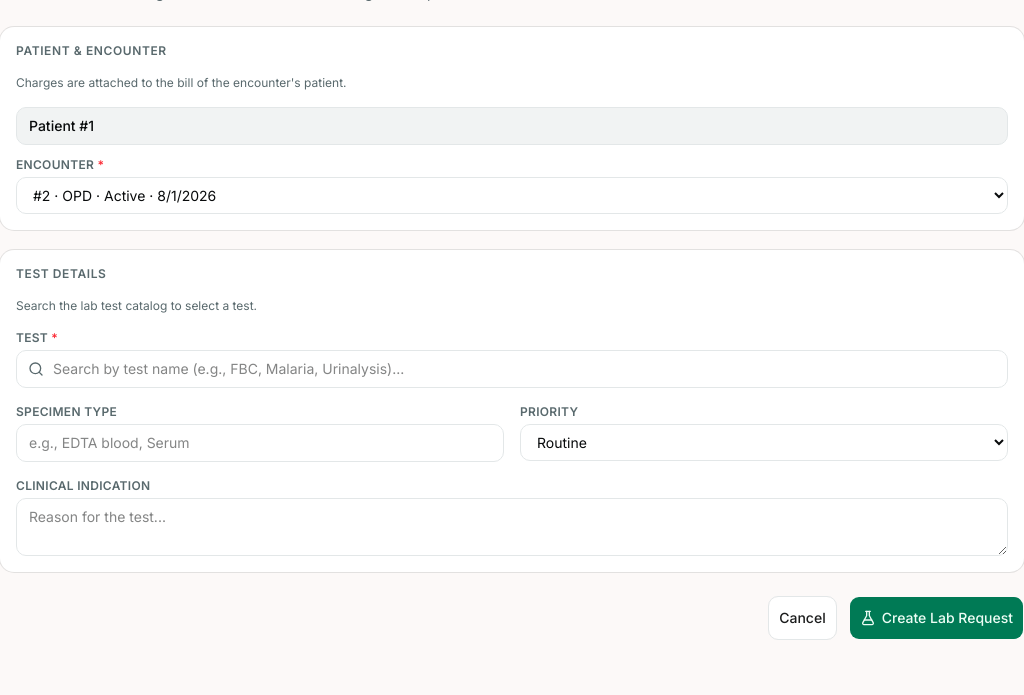
Scenario: NewLabRequestPage › submits a lab request and shows the billing confirmation modal
The image size is (1024, 695).
Select "#2 · OPD · Active · 8/1/2026" in the dropdown below "Patient #" at (512, 196), box [16, 177, 1008, 214]
Type "hemo" into the field with placeholder "Search by test name (e.g., FBC, Malaria, Urinalysis)...".
click(512, 369); type("hemo")  # box [16, 350, 1008, 388]
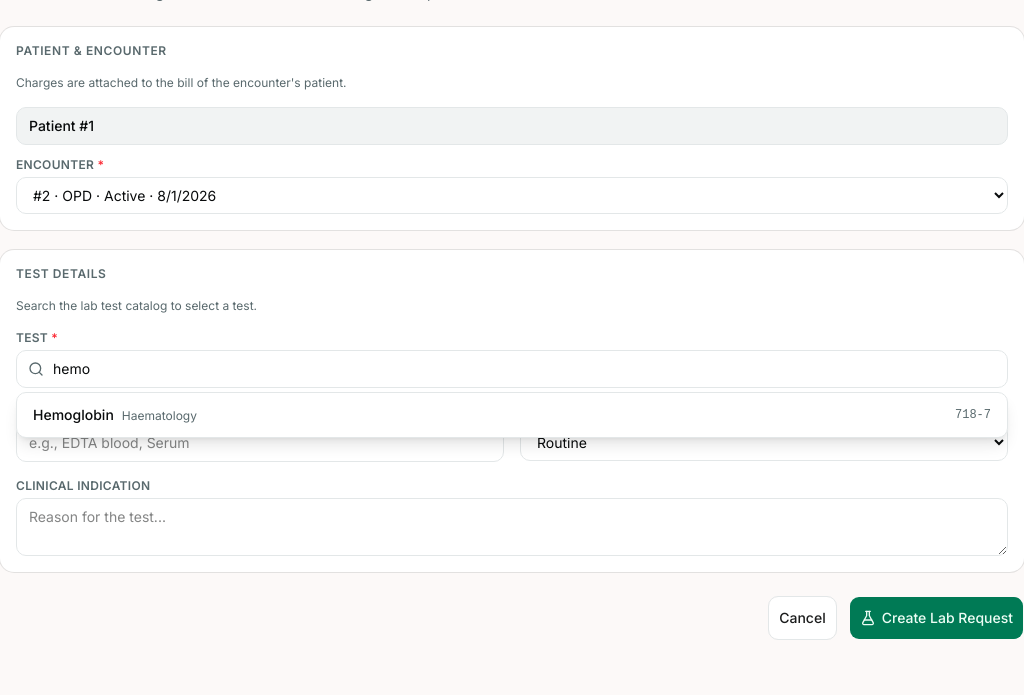
Click the button "Hemoglobin".
click(73, 414)  # box [17, 393, 1007, 437]
(page scrolled)
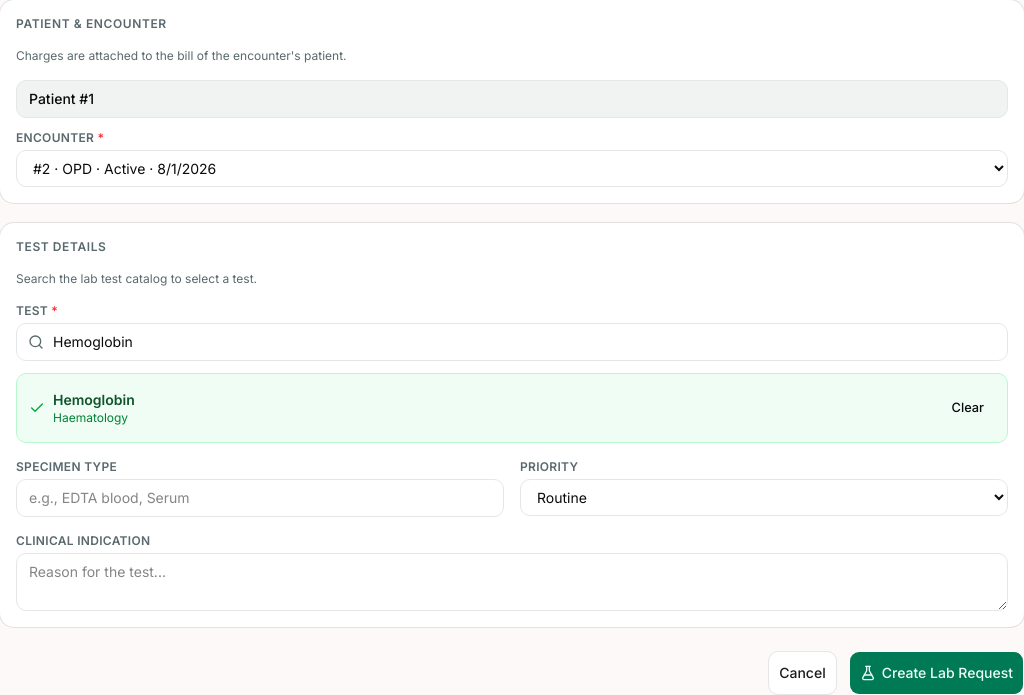
Now the text "Haematology" is shown, box [53, 410, 135, 426]
Click the button "Create Lab Request".
click(936, 673)  # box [849, 651, 1023, 694]
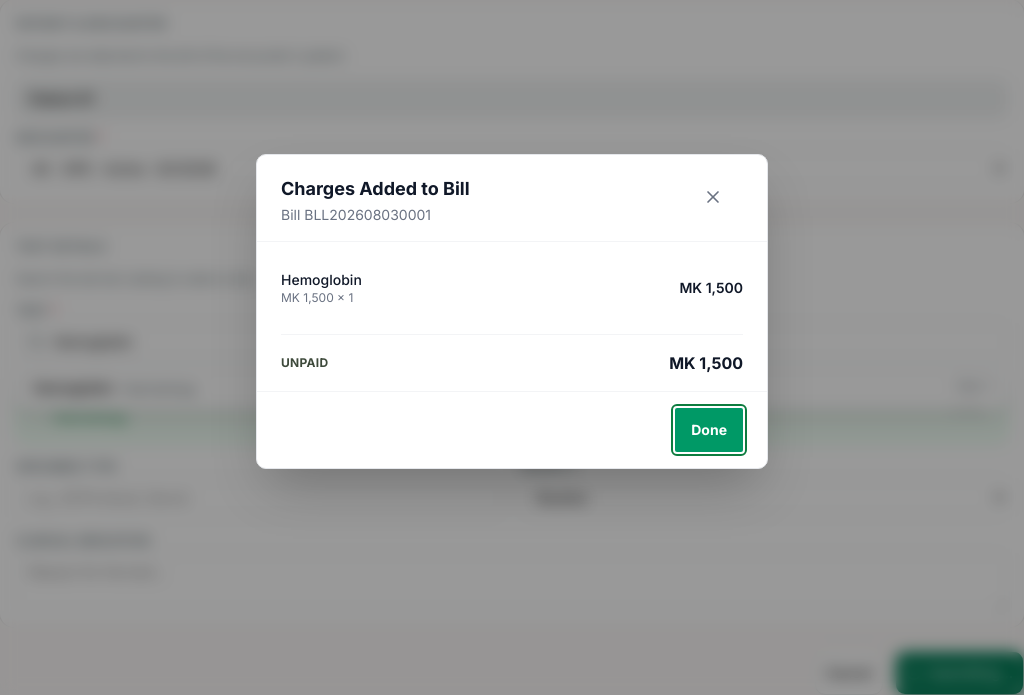
Now the heading "Charges Added to Bill" is shown, box [281, 174, 470, 202]
Now the text "Bill BLL202608030001" is shown, box [281, 206, 431, 222]
Now the text "Unpaid" is shown, box [281, 354, 328, 370]
